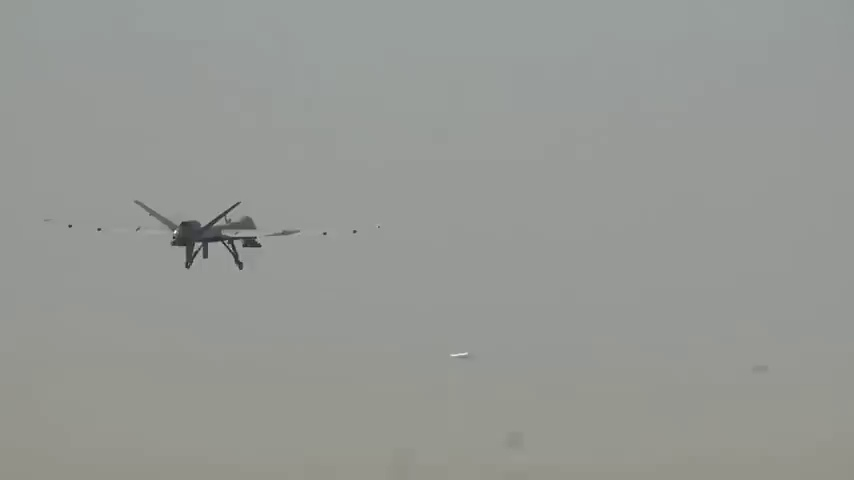military drone: (44, 198, 386, 270)
